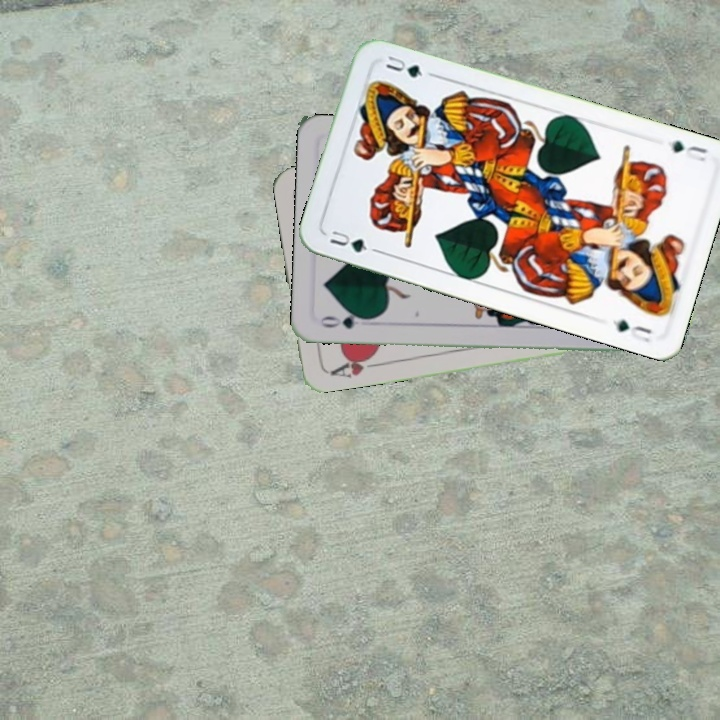GO: (316, 309, 375, 332)
GU: (326, 226, 380, 255), (663, 136, 711, 164)
HA: (326, 349, 384, 381)
